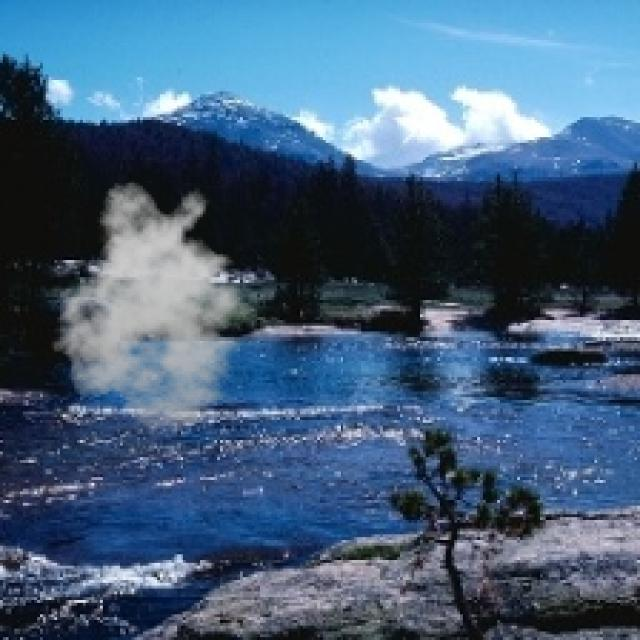smoke: (46, 180, 266, 431)
